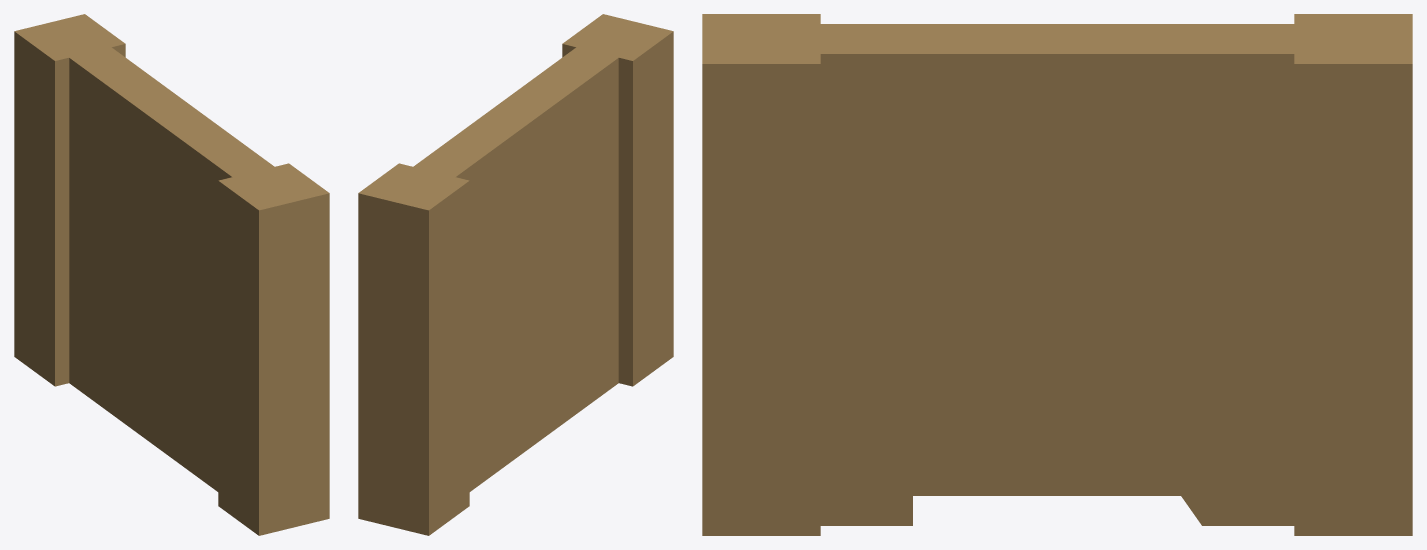
File: wood_door_square_01.glb
3 renders of one model, left to right at view 1: azimuth 30°, elevation 25°; view 2: azimuth 150°, elevation 25°; view 3: azimuth 270°, elevation 25°, orthographic. The views are drawn at different scales.
Parts seen in each view (by area): view 1: Mesh1 Wood_Door_Square Model; view 2: Mesh1 Wood_Door_Square Model; view 3: Mesh1 Wood_Door_Square Model.
Part boxes in pixels (<box>): Mesh1 Wood_Door_Square Model: <box>14,14,329,535</box>; Mesh1 Wood_Door_Square Model: <box>358,14,673,535</box>; Mesh1 Wood_Door_Square Model: <box>702,14,1412,535</box>.
Size of the model in its own units: 0.5 by 2.2 by 3.
